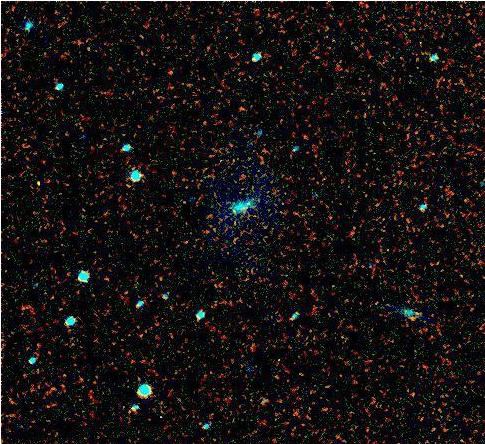star: (397, 302, 427, 332)
